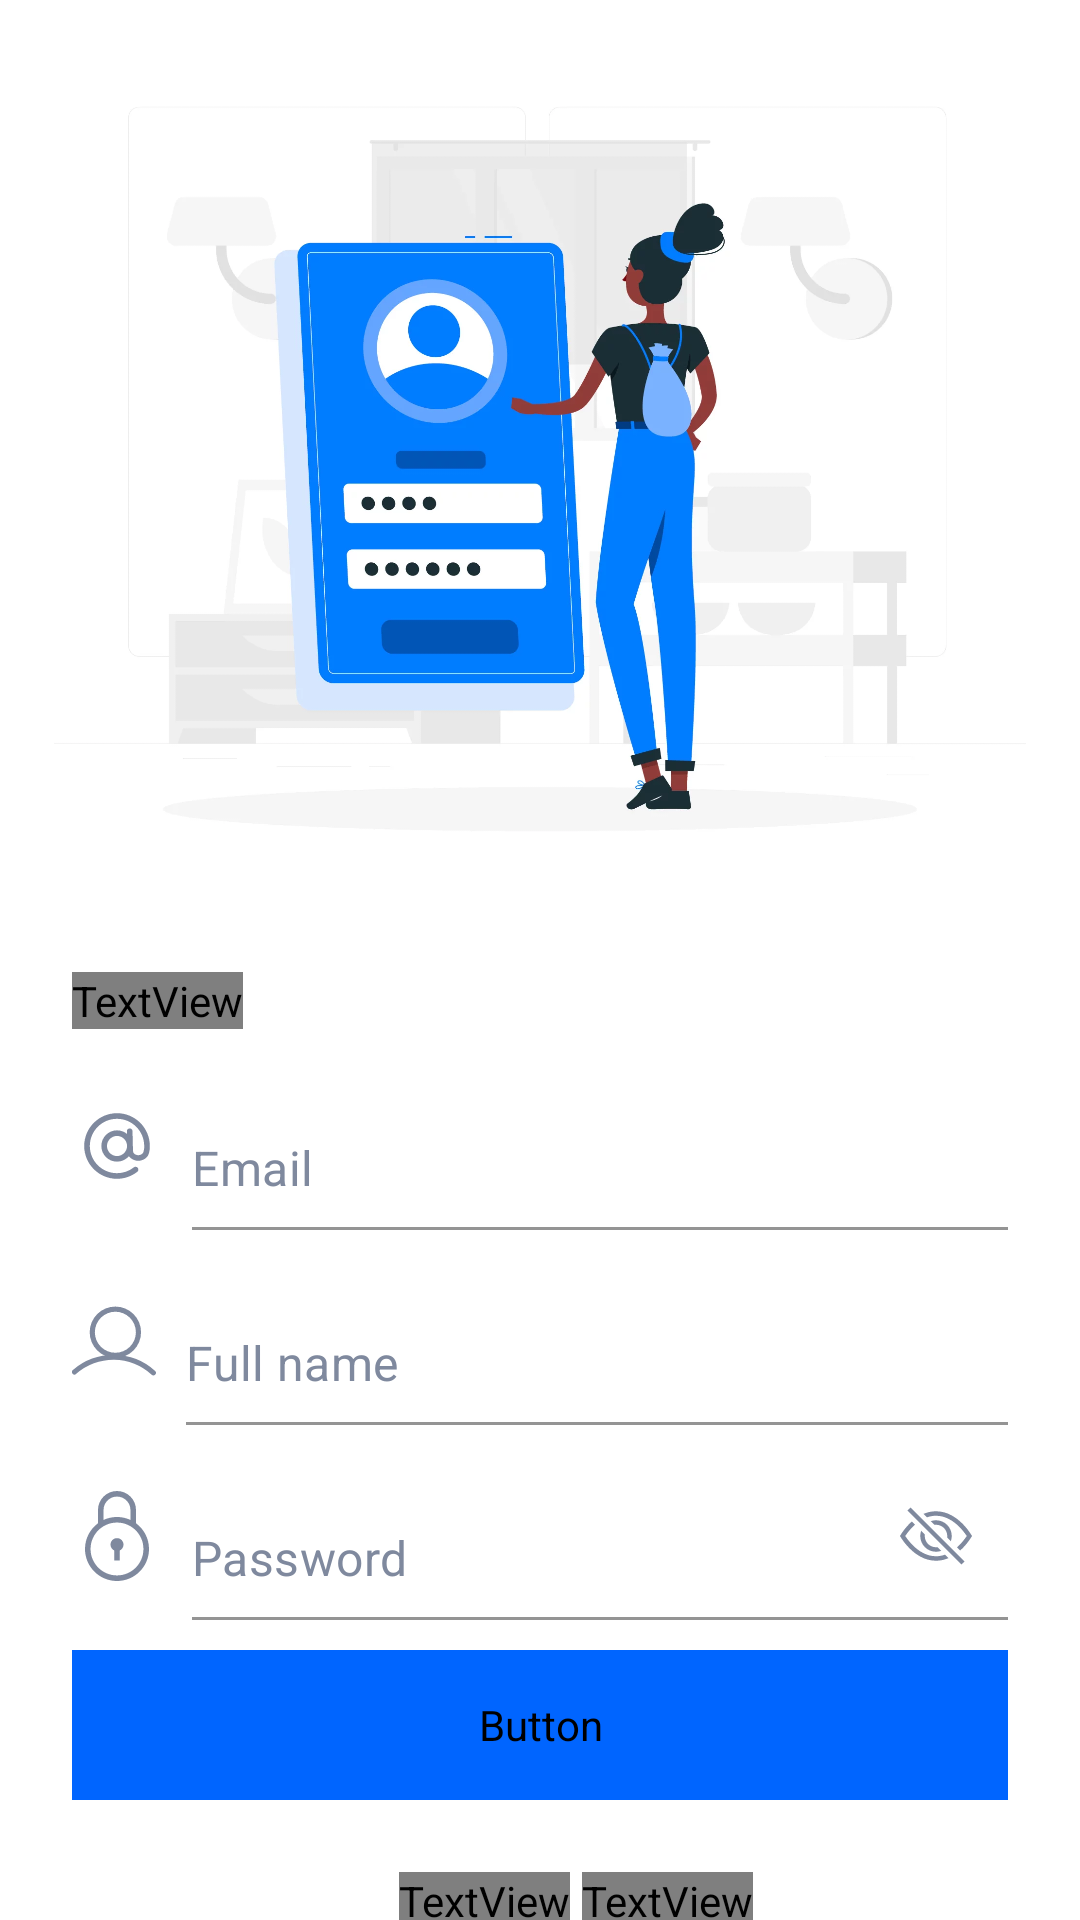

Named icons in this screenshot (1080×1920) and their centers, (x=x, y=y):
lock: (x=117, y=1536)
person: (x=114, y=1341)
